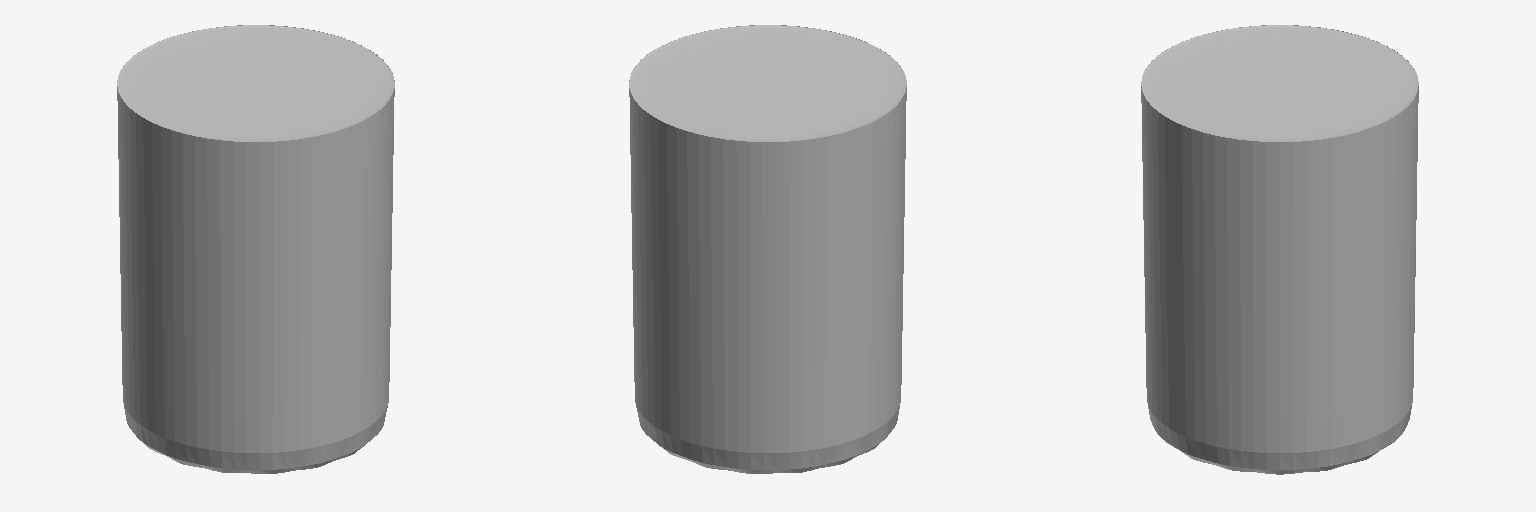
The model's file is Milk0_Cylinder.013.obj.
The picture shows the model from 3 angles: view 1: azimuth 30°, elevation 25°; view 2: azimuth 150°, elevation 25°; view 3: azimuth 270°, elevation 25°; orthographic projection.
Parts seen in each view (by area): view 1: Milk0_Cylinder.013; view 2: Milk0_Cylinder.013; view 3: Milk0_Cylinder.013.
Boxes of the visible parts, x1=… form: Milk0_Cylinder.013: x1=117, y1=25, x2=394, y2=473; Milk0_Cylinder.013: x1=629, y1=25, x2=906, y2=473; Milk0_Cylinder.013: x1=1141, y1=25, x2=1418, y2=474.
Bounding box in the file's own units: 0.6721 × 0.9209 × 0.6721.